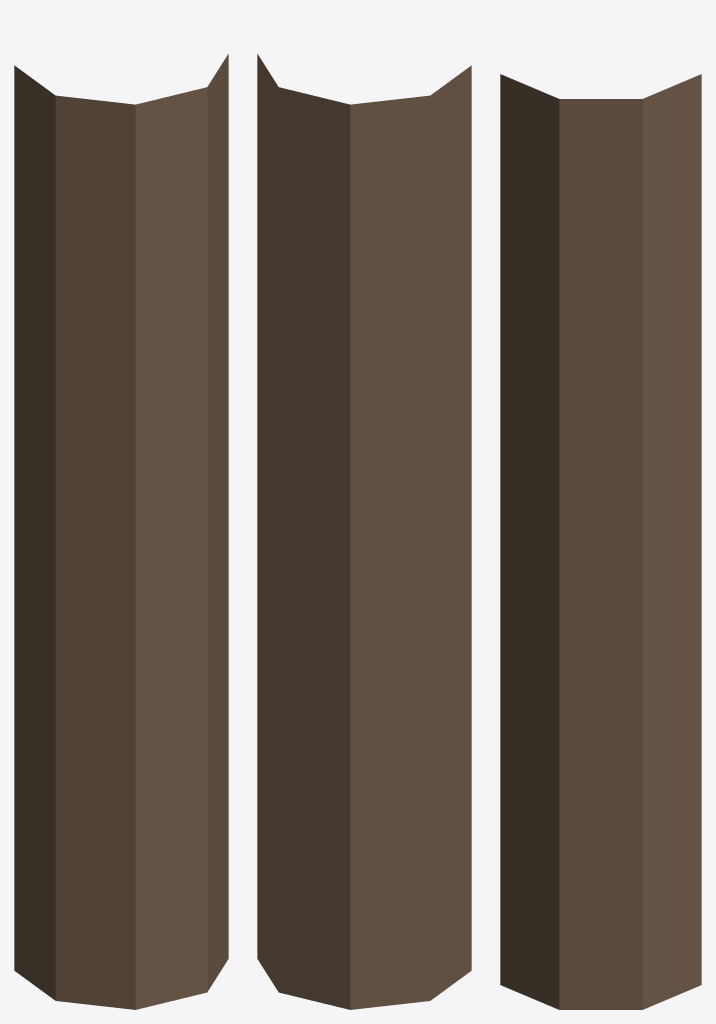
File: Hilly_Prop_Bridge_Log_Post_Support.glb
3 renders of one model, left to right at view 1: azimuth 30°, elevation 25°; view 2: azimuth 150°, elevation 25°; view 3: azimuth 270°, elevation 25°, orthographic.
Parts seen in each view (by area): view 1: Hilly_Prop_Bridge_Log_Post_Support; view 2: Hilly_Prop_Bridge_Log_Post_Support; view 3: Hilly_Prop_Bridge_Log_Post_Support.
Part boxes in pixels (x1=…): Hilly_Prop_Bridge_Log_Post_Support: x1=14, y1=54, x2=228, y2=1009; Hilly_Prop_Bridge_Log_Post_Support: x1=257, y1=54, x2=471, y2=1009; Hilly_Prop_Bridge_Log_Post_Support: x1=500, y1=74, x2=701, y2=1009.
Bounding box in the file's own units: 0.2 × 1 × 0.2.
